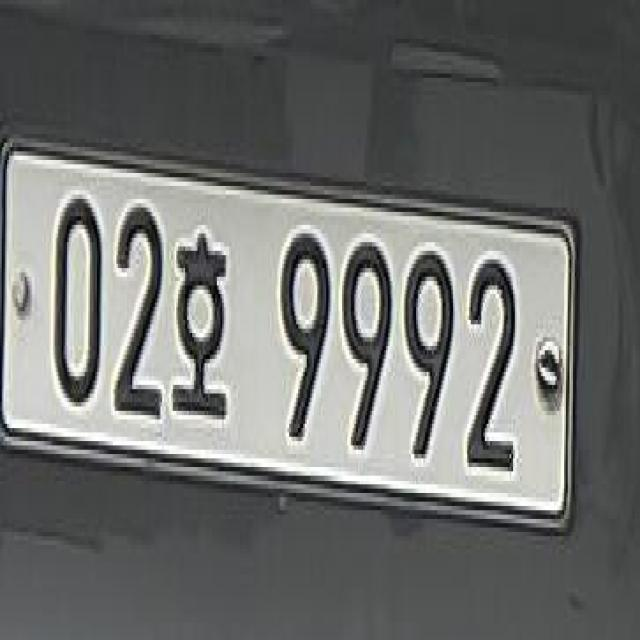illegal_plate: (3, 137, 579, 544)
